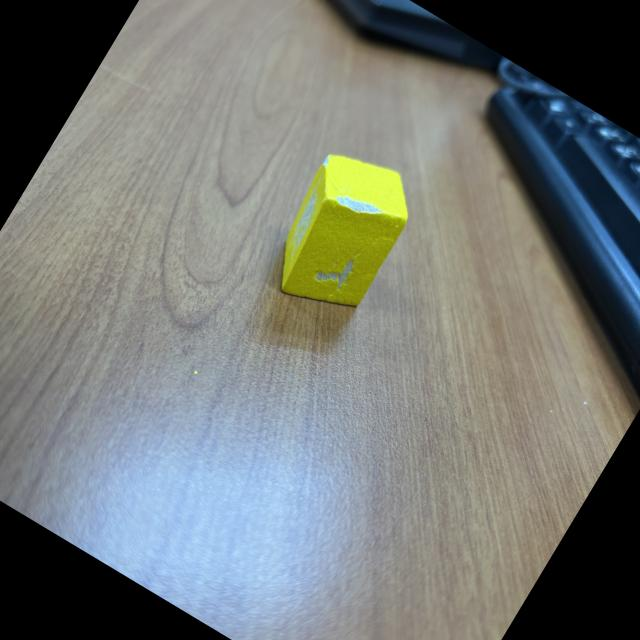broken: (253, 135, 430, 331)
